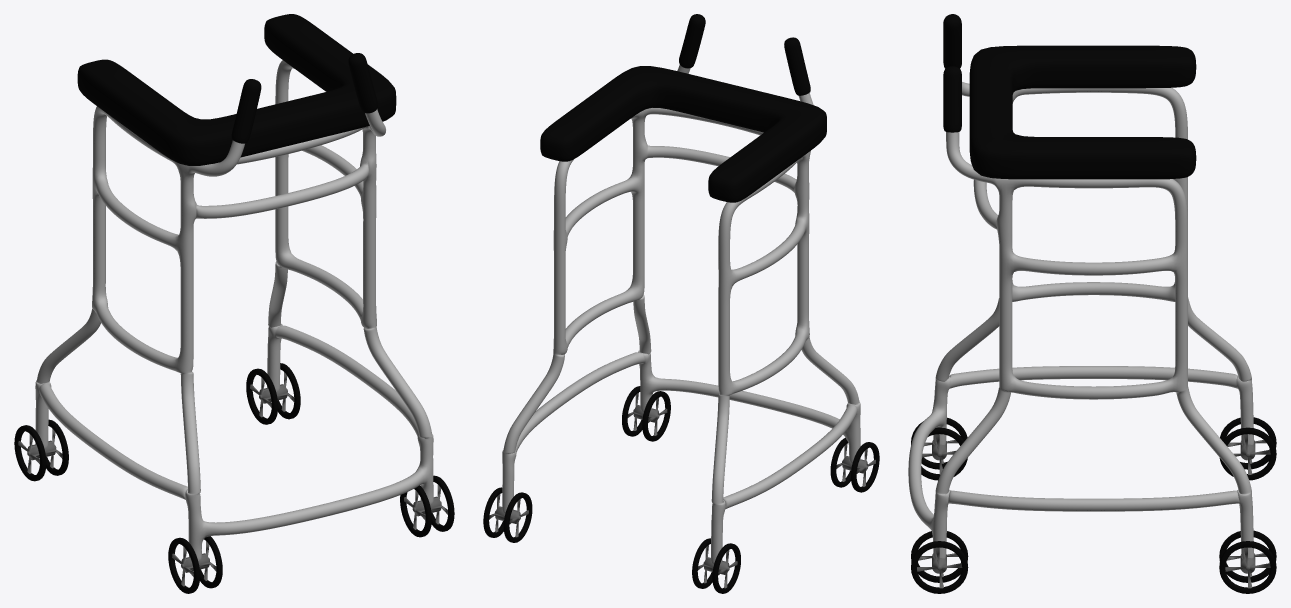
The model's file is walker_2.fbx.
3 views of the same model, side by side, from view 1: azimuth 30°, elevation 25°; view 2: azimuth 150°, elevation 25°; view 3: azimuth 270°, elevation 25° (orthographic). The views are drawn at different scales.
Visible parts, largest first — view 1: walker_2; view 2: walker_2; view 3: walker_2.
Part boxes in pixels (x1,y1,x2,y2): walker_2: (14, 14, 454, 593); walker_2: (483, 14, 879, 593); walker_2: (908, 14, 1276, 593).
Size of the model in its own units: 80.91 by 134 by 91.11.
